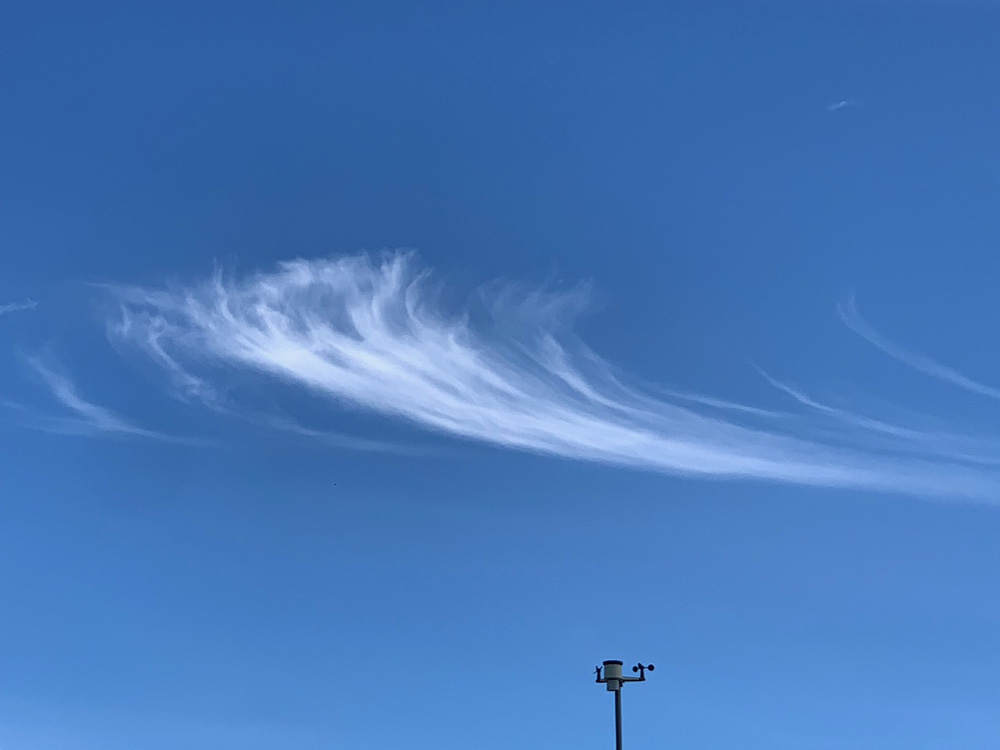Cirrus: (90, 178, 1000, 540)
